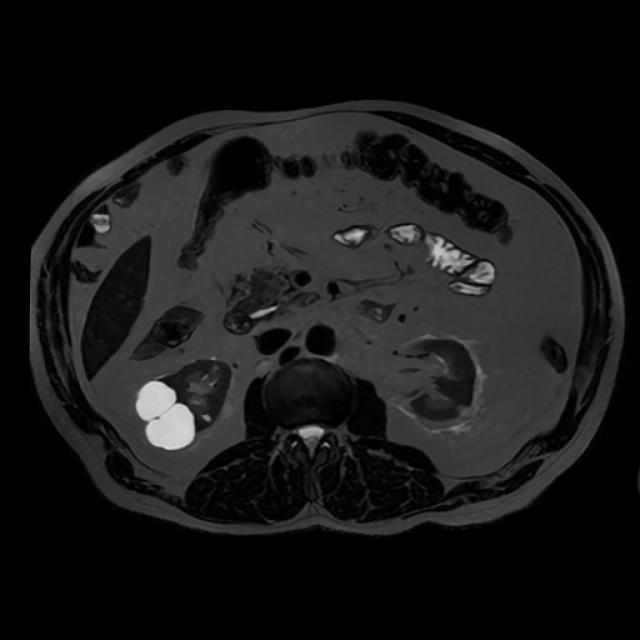sag: (134, 356, 234, 455)
sol: (411, 335, 477, 420)
